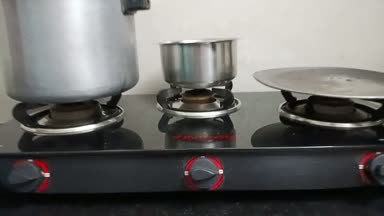flame_gas_off: (6, 96, 122, 197), (164, 81, 244, 192)
